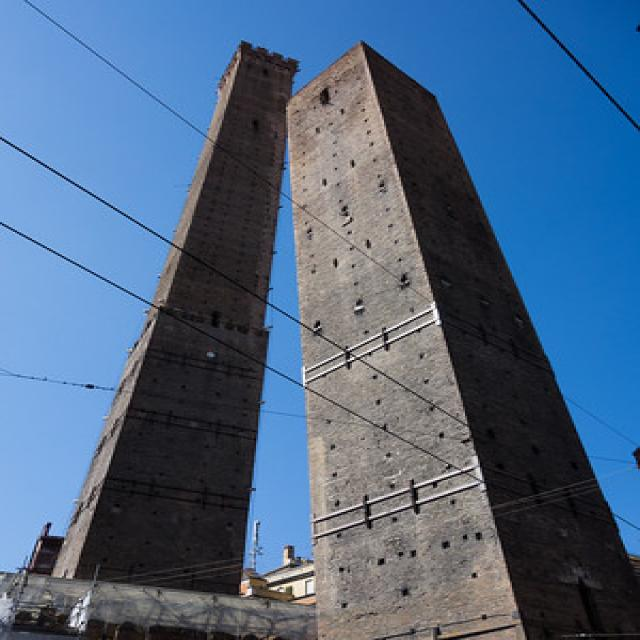building: (279, 37, 640, 640), (50, 38, 302, 596)
